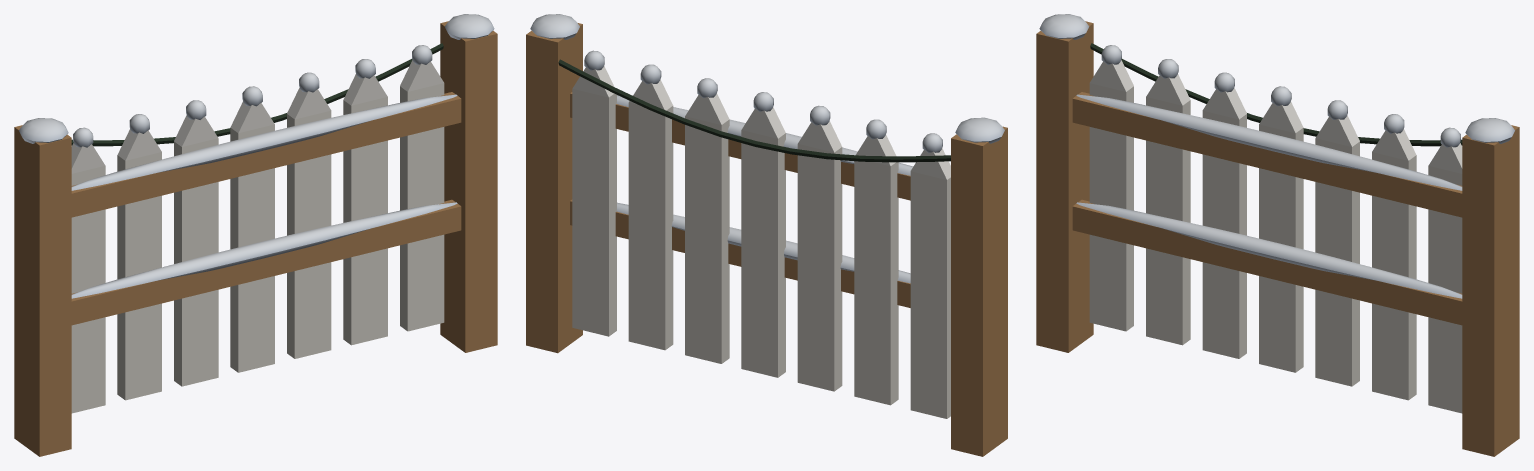
Rendered from Xmas_Fence.fbx.
The picture shows the model from 3 angles, left to right: view 1: azimuth 30°, elevation 25°; view 2: azimuth 150°, elevation 25°; view 3: azimuth 330°, elevation 25°; orthographic projection.
Parts seen in each view (by area): view 1: Xmas_Fence; view 2: Xmas_Fence; view 3: Xmas_Fence.
Boxes of the visible parts, x1=… form: Xmas_Fence: x1=14, y1=14, x2=497, y2=456; Xmas_Fence: x1=526, y1=14, x2=1007, y2=456; Xmas_Fence: x1=1036, y1=14, x2=1519, y2=456.
Size of the model in its own units: 20.5 by 13.45 by 1.9.
